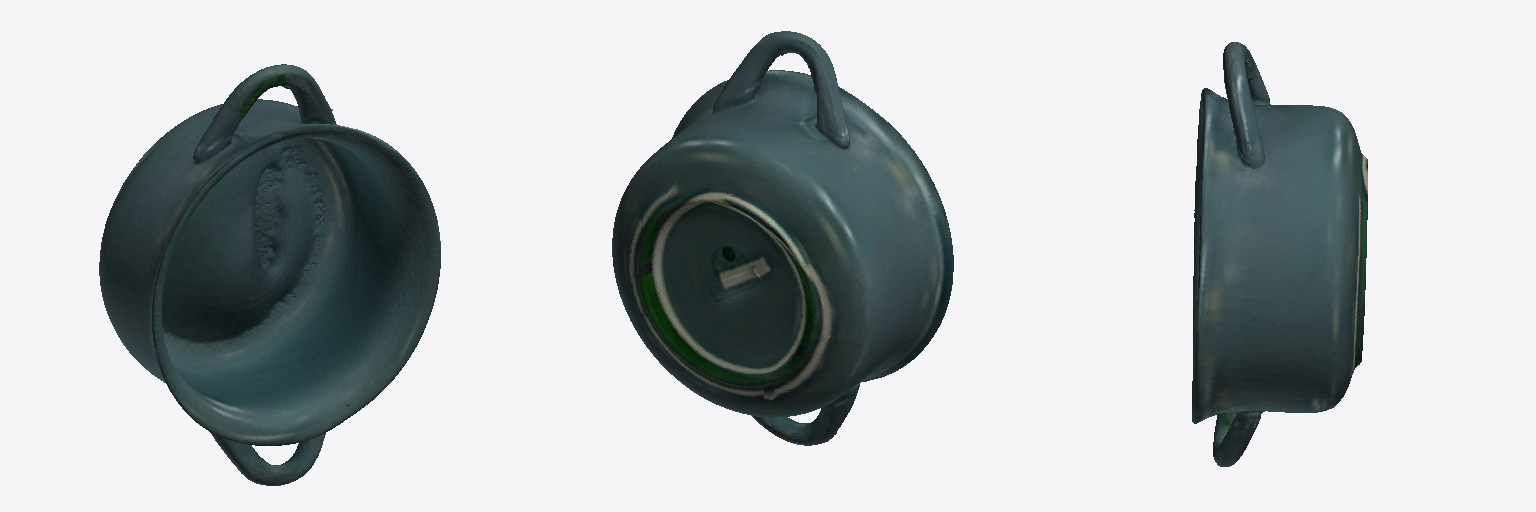
3 renders of one model, left to right at view 1: azimuth 30°, elevation 25°; view 2: azimuth 150°, elevation 25°; view 3: azimuth 270°, elevation 25°, orthographic.
Size of the model in its own units: 176 by 242 by 93.35.
1 materials, 1 textured.